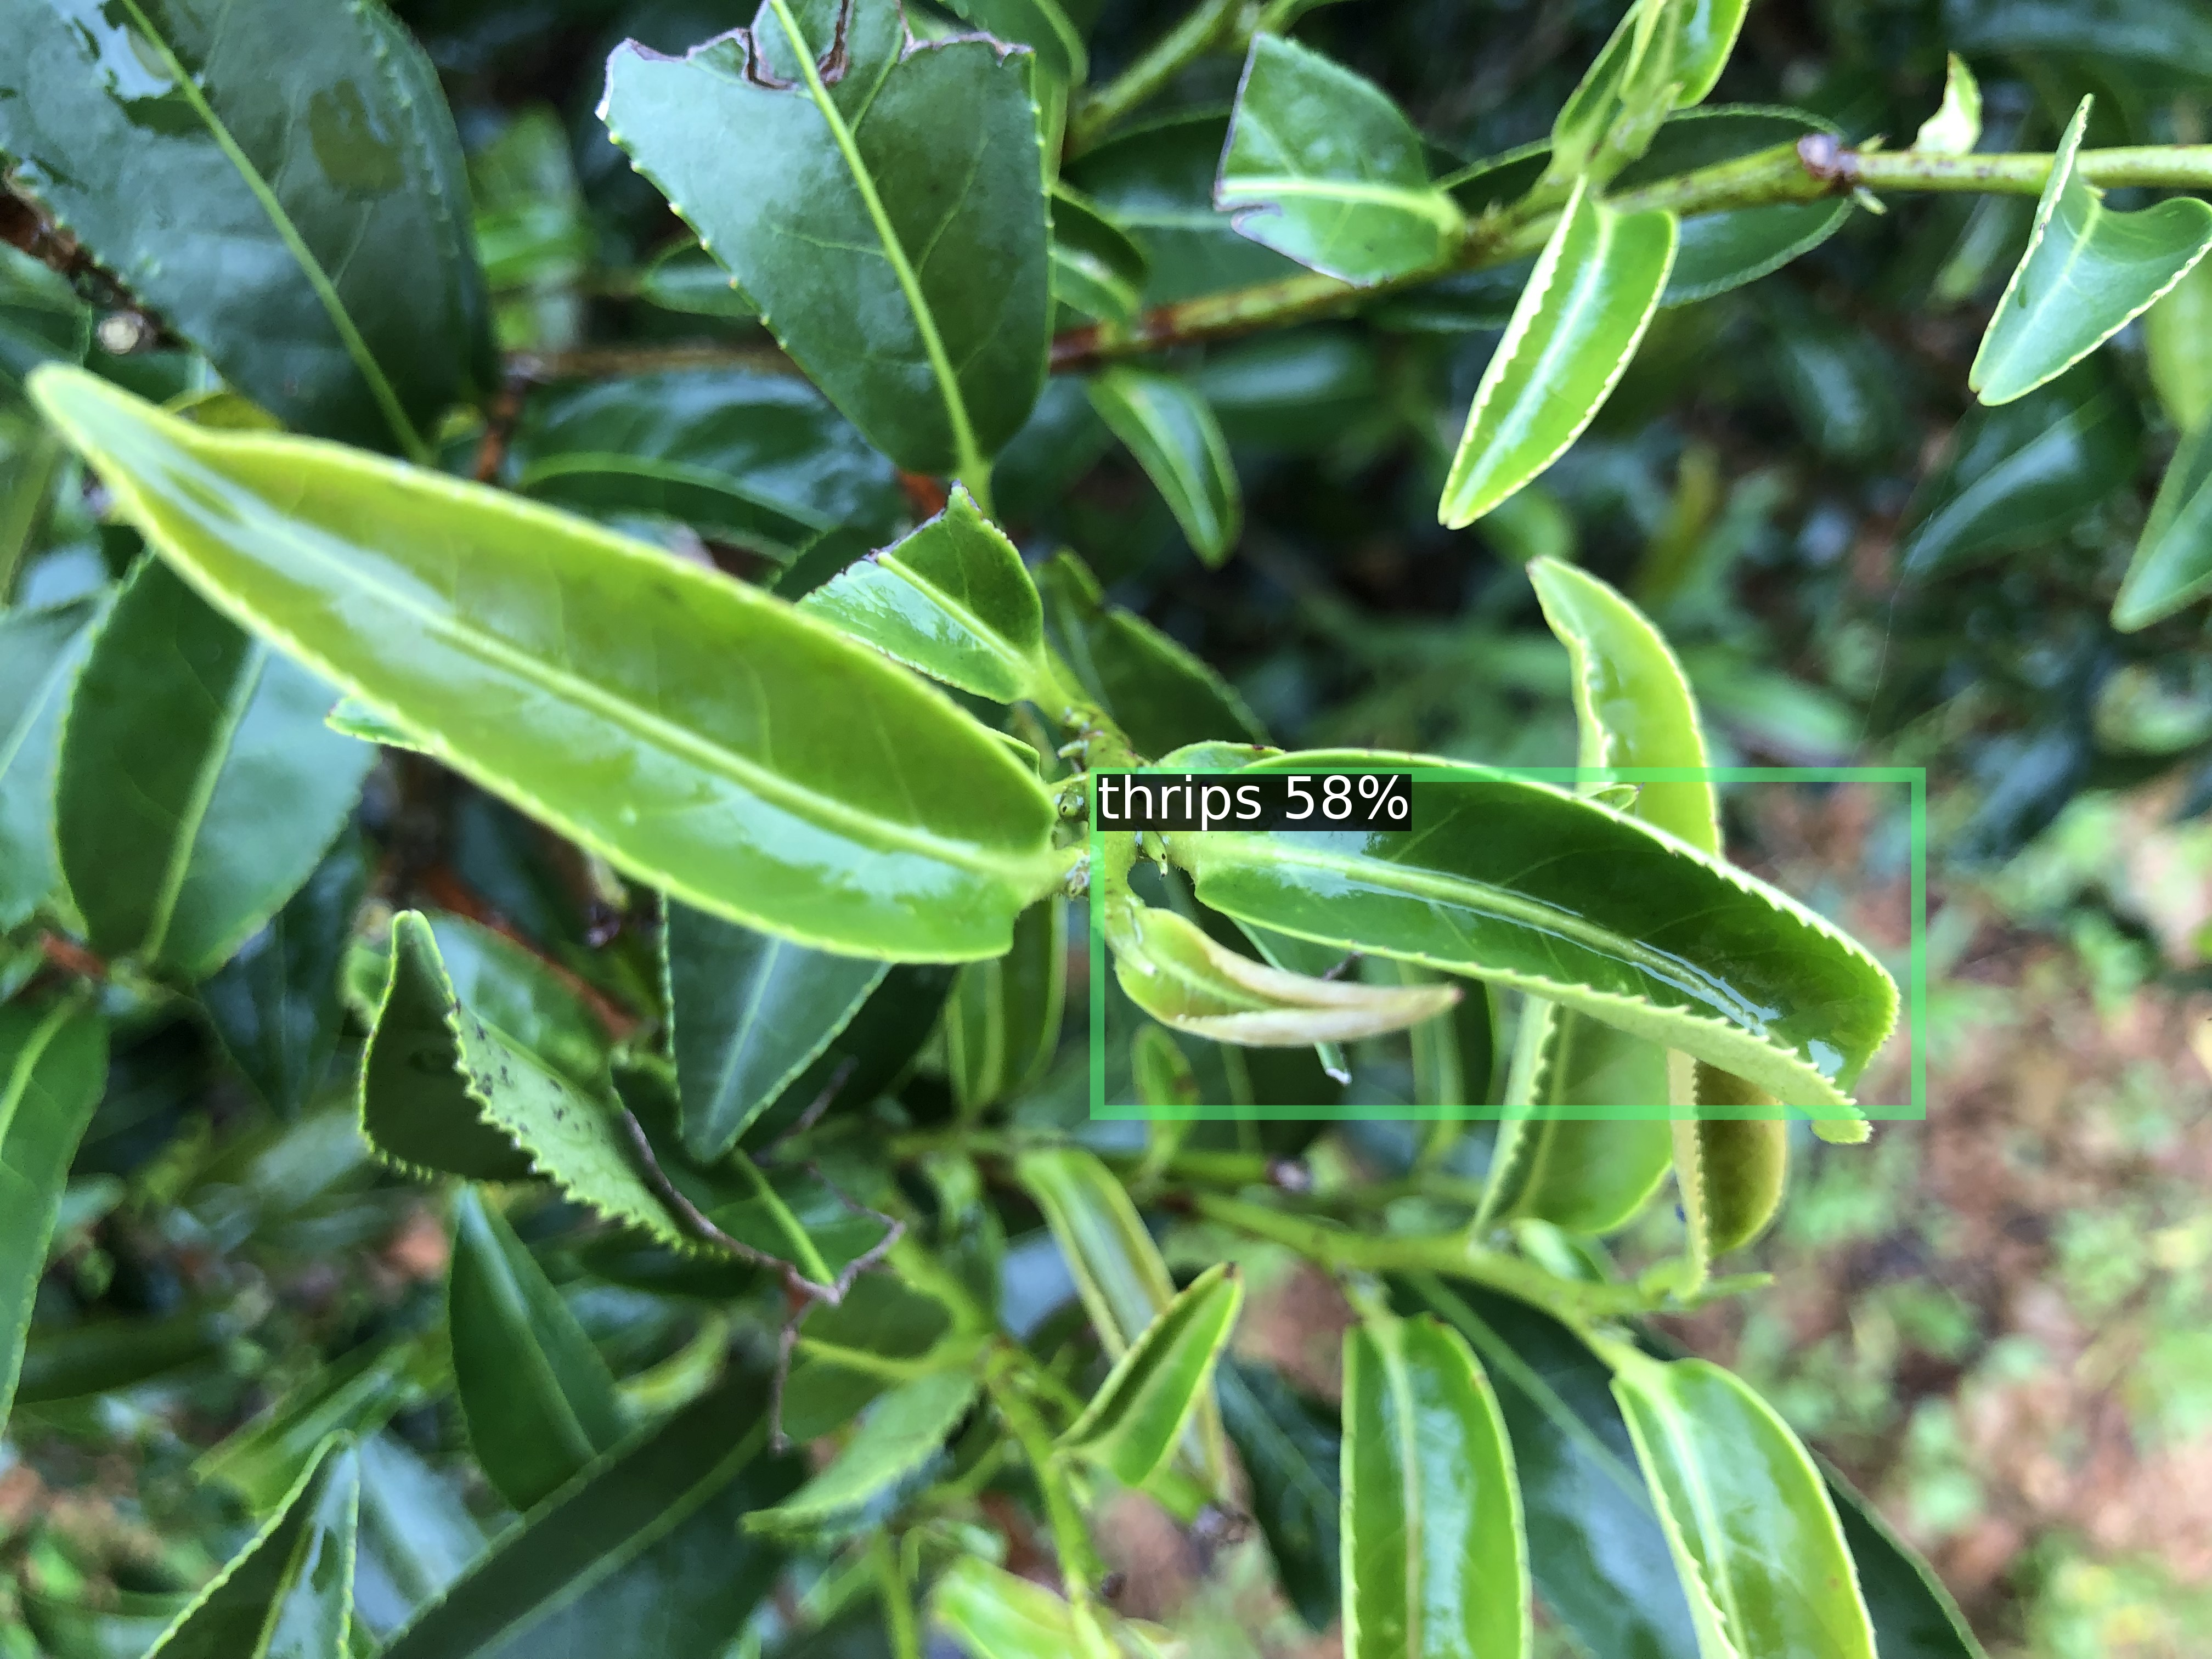thrips: (1097, 775, 1918, 1112)
